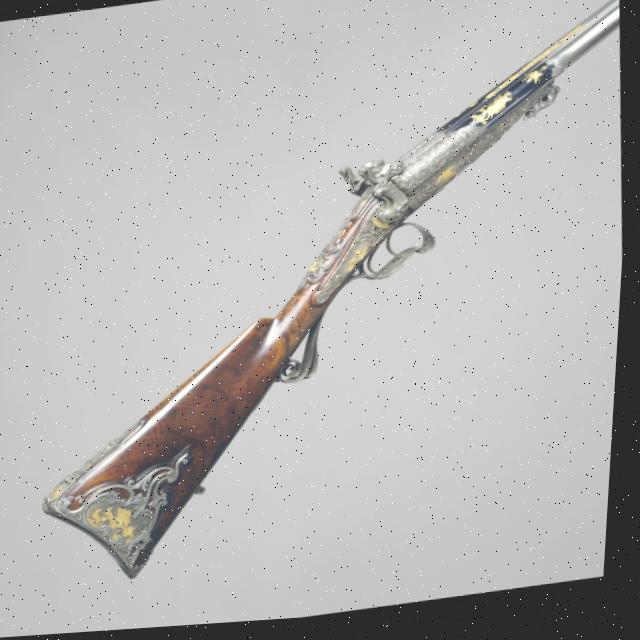firearm: (14, 0, 639, 595)
